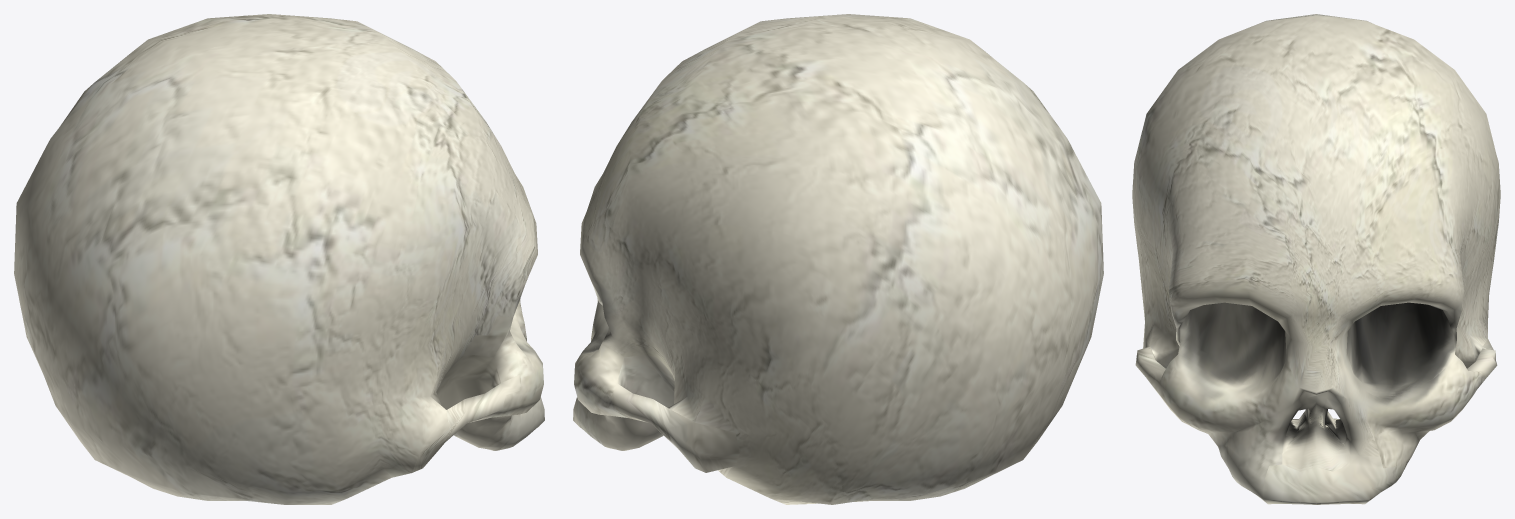
The model's file is head_skull.fbx.
3 views of the same model, side by side, from view 1: azimuth 30°, elevation 25°; view 2: azimuth 150°, elevation 25°; view 3: azimuth 270°, elevation 25° (orthographic). The views are drawn at different scales.
Visible parts, largest first — view 1: Skull - Realistic; view 2: Skull - Realistic; view 3: Skull - Realistic.
Boxes of the visible parts, left/top/right/bottom form: Skull - Realistic: left=14, top=14, right=544, bottom=504; Skull - Realistic: left=573, top=14, right=1103, bottom=504; Skull - Realistic: left=1132, top=14, right=1500, bottom=504.
Size of the model in its own units: 101 by 87.25 by 79.98.
1 material, 1 textured.
